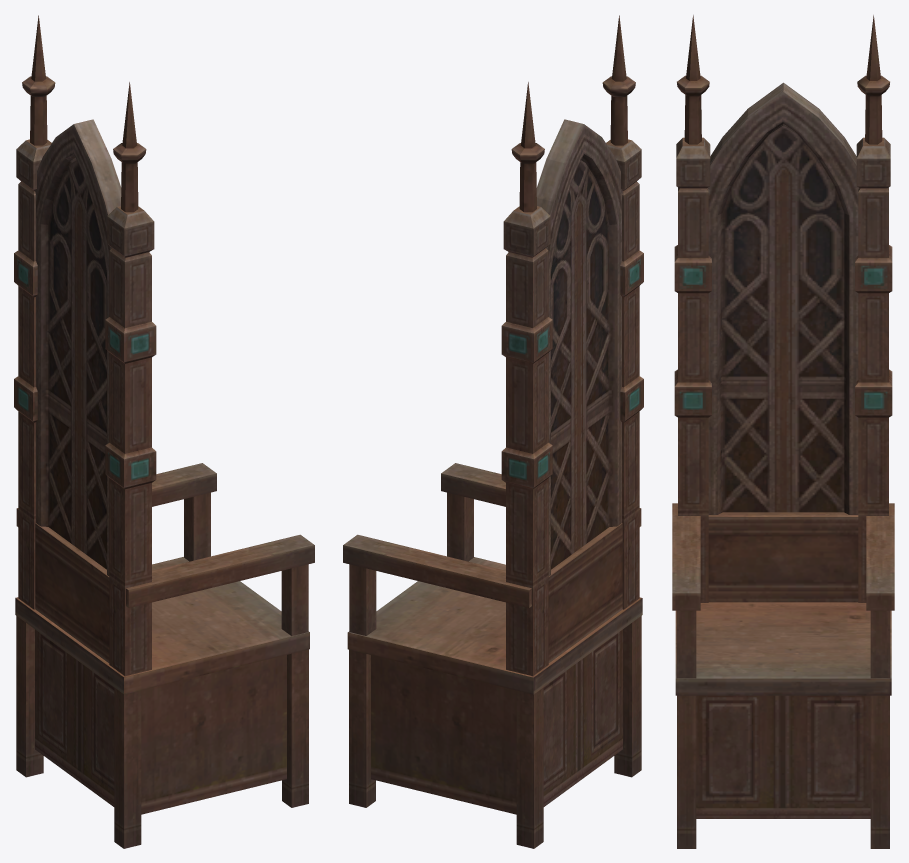
The model's file is bg_lut_lucastle_libraryprop06_sm_artree.FBX.
3 renders of one model, left to right at view 1: azimuth 30°, elevation 25°; view 2: azimuth 150°, elevation 25°; view 3: azimuth 270°, elevation 25°, orthographic.
Parts seen in each view (by area): view 1: bg_lut_lucastle_libraryprop06_sm_artree; view 2: bg_lut_lucastle_libraryprop06_sm_artree; view 3: bg_lut_lucastle_libraryprop06_sm_artree.
Part boxes in pixels (<box>): bg_lut_lucastle_libraryprop06_sm_artree: <box>14,15,314,848</box>; bg_lut_lucastle_libraryprop06_sm_artree: <box>343,15,643,848</box>; bg_lut_lucastle_libraryprop06_sm_artree: <box>672,15,894,848</box>.
Bounding box in the file's own units: 75.64 × 289 × 77.58.
